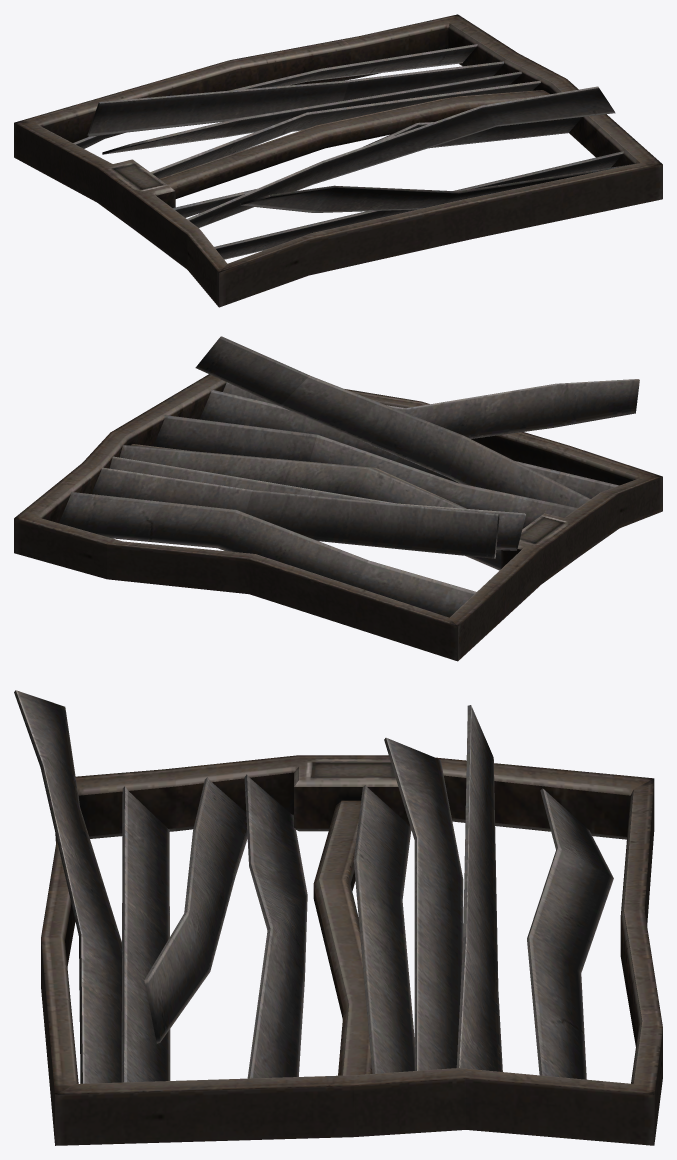
File: 02_05_hatch_ventilation_broken_door.dae
3 renders of one model, top to bottom at view 1: azimuth 30°, elevation 25°; view 2: azimuth 150°, elevation 25°; view 3: azimuth 270°, elevation 25°, orthographic. The views are drawn at different scales.
Parts seen in each view (by area): view 1: door; view 2: door; view 3: door.
Part boxes in pixels (x1,y1,x2,y2): door: (14,14,662,307); door: (14,336,662,661); door: (14,690,662,1145).
Bounding box in the file's own units: 1.27 × 0.3069 × 1.08.
